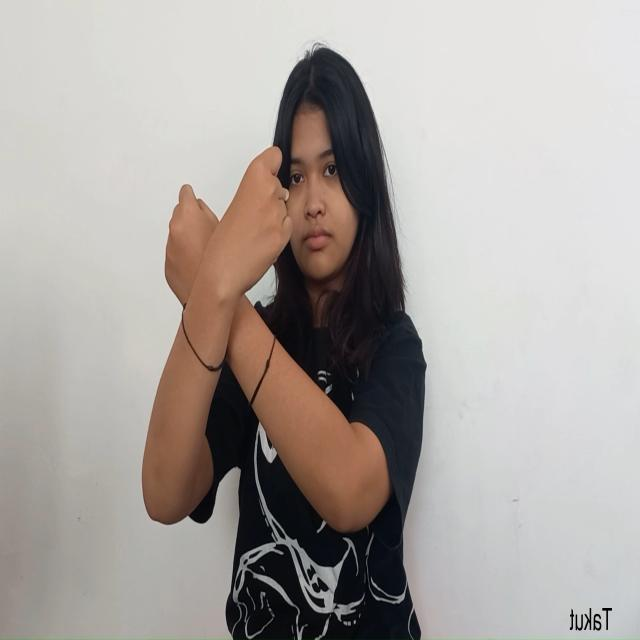Takut -BISINDO-: (163, 144, 294, 330)
